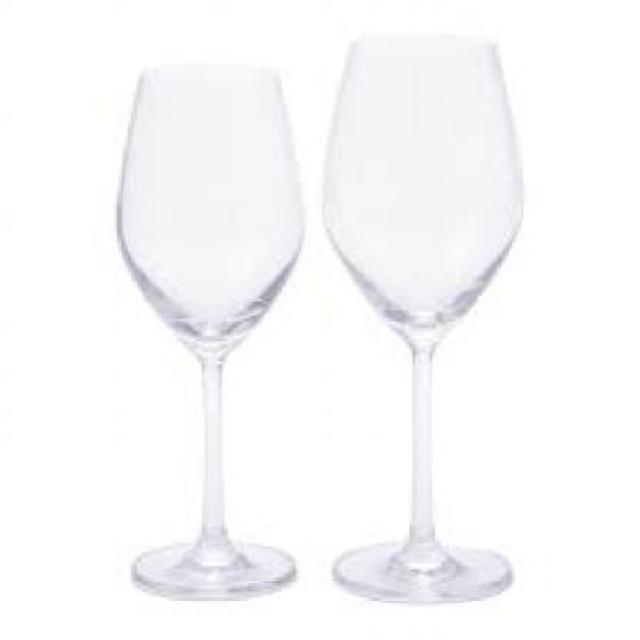kaca: (322, 31, 520, 600), (120, 67, 302, 596)
